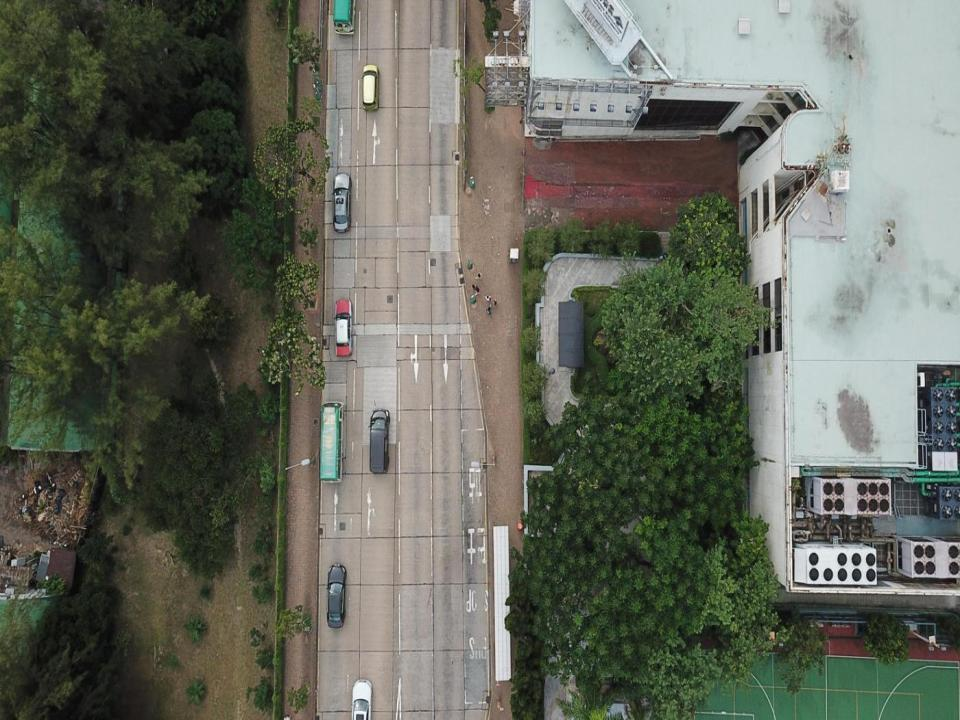bus: (319, 402, 343, 484), (334, 0, 358, 37)
car: (326, 564, 347, 627), (334, 298, 352, 357), (333, 174, 351, 232), (350, 678, 373, 719), (361, 63, 380, 111)
van: (368, 411, 392, 474)
